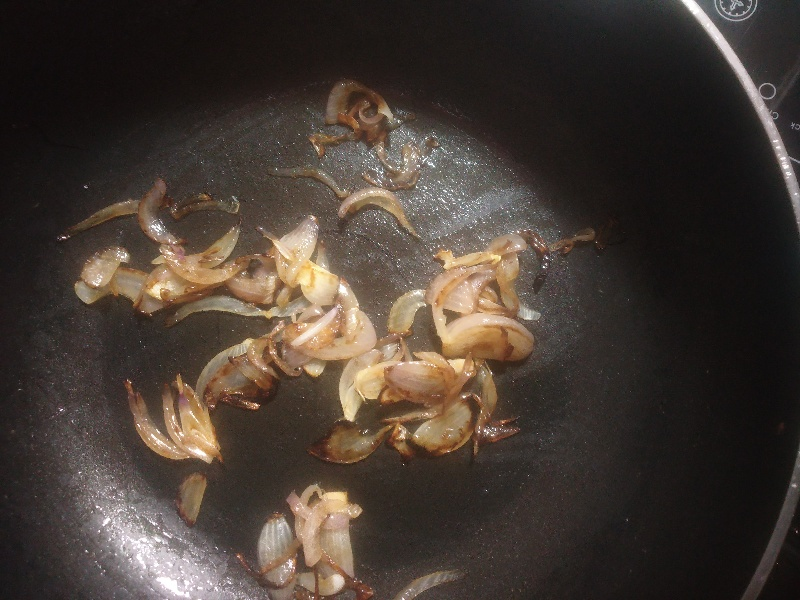onion_fried: (77, 197, 242, 319), (316, 84, 408, 148)
onion_golden: (335, 367, 493, 459), (262, 486, 365, 600), (123, 378, 218, 473)
